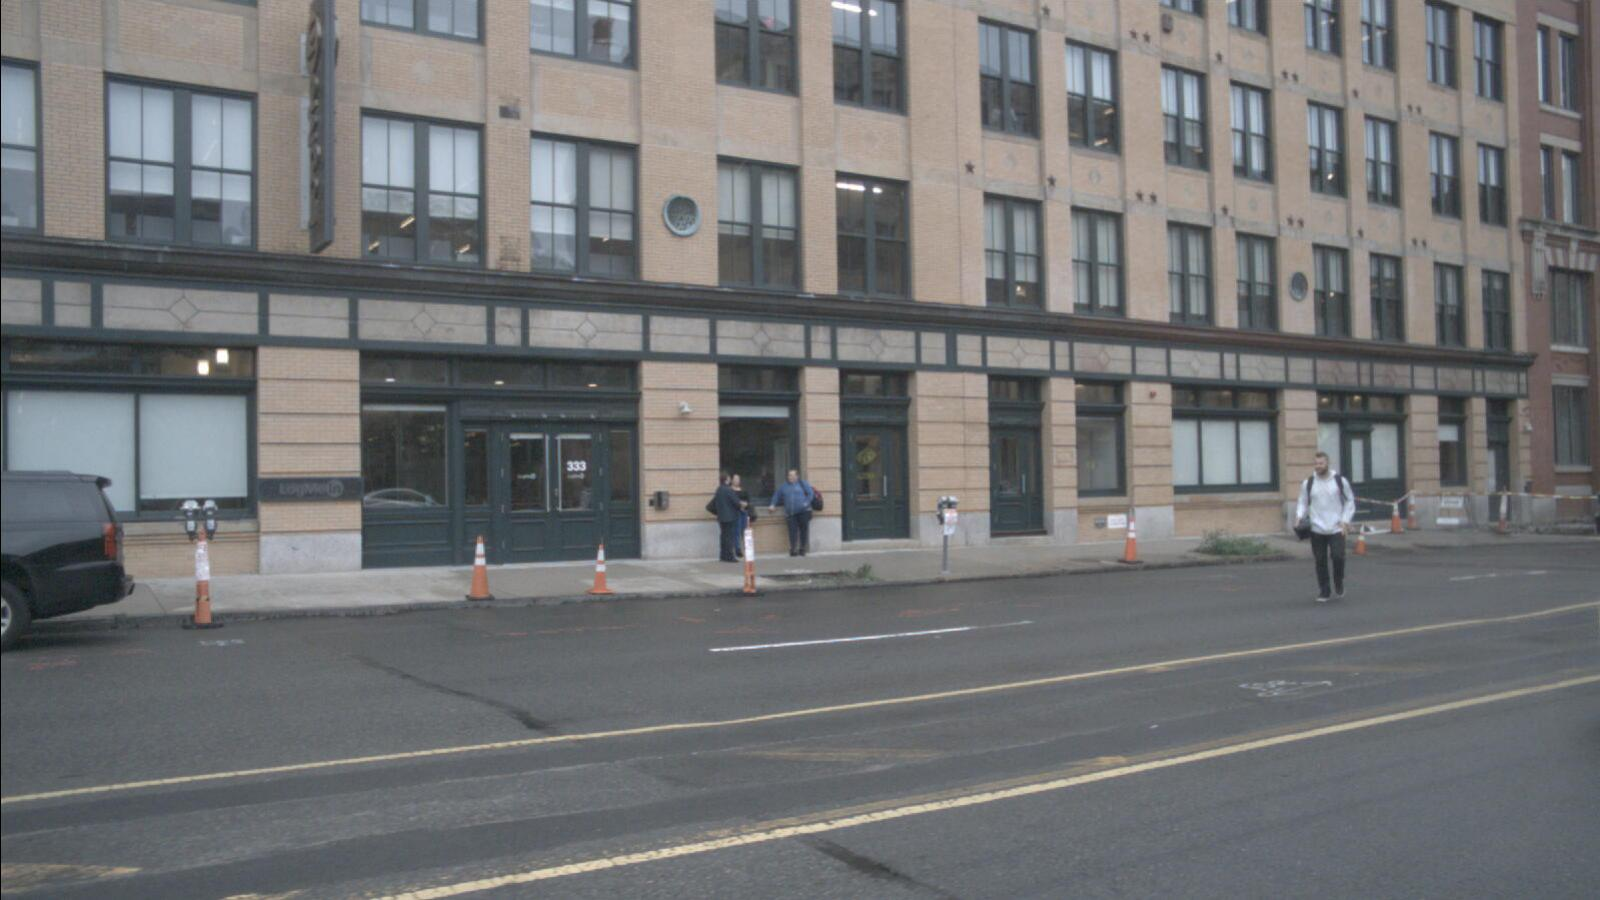human.pedestrian.adult-pedestrian.moving: (1294, 451, 1355, 603)
human.pedestrian.adult-pedestrian.standing: (764, 468, 823, 559), (703, 471, 747, 562), (724, 472, 757, 559)
